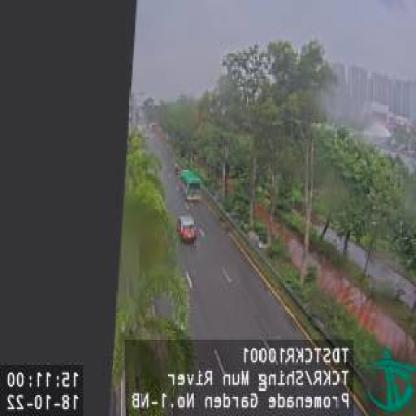Car: (173, 212, 199, 246)
Minibus: (177, 168, 201, 204)
